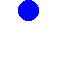circle: (18, 0, 38, 20)
